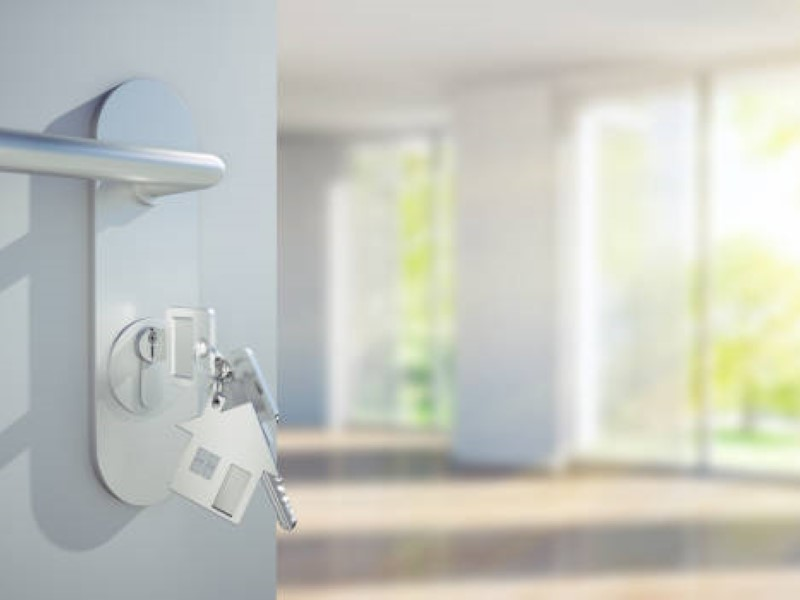key: (206, 344, 301, 531)
